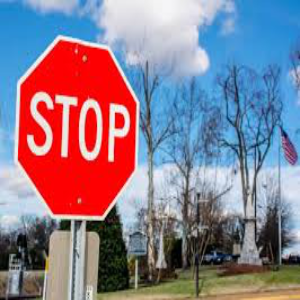STOP_SIGN: (13, 34, 140, 221)
